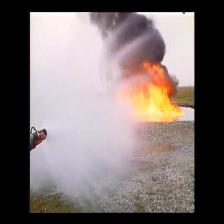fire: (145, 91, 172, 124)
